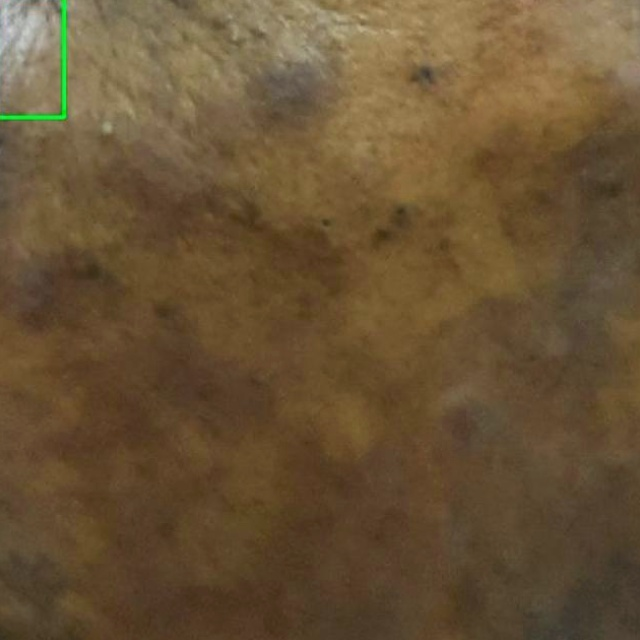Contact Dermatitis: (0, 0, 64, 117)
